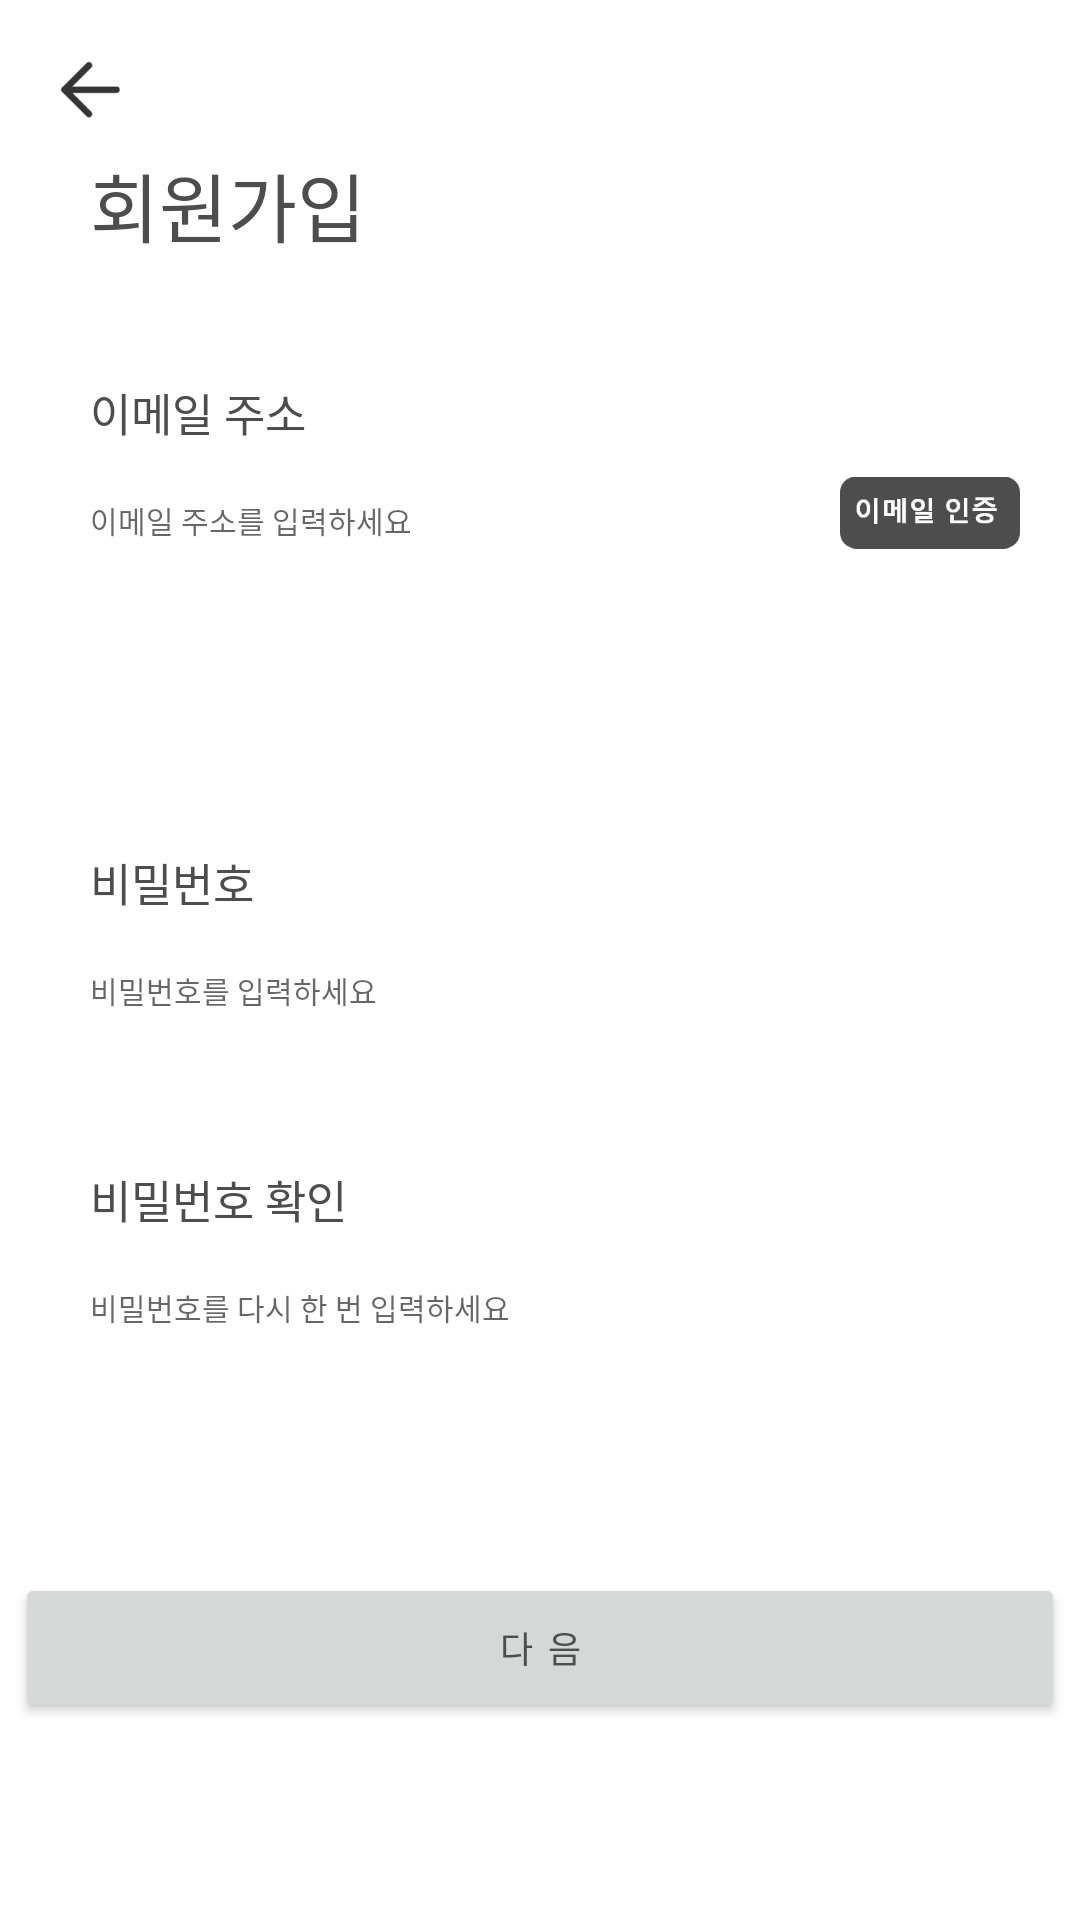

Named icons in this screenshot (1080×1920) and their centers, (x,y):
backbutton: (90,89)
